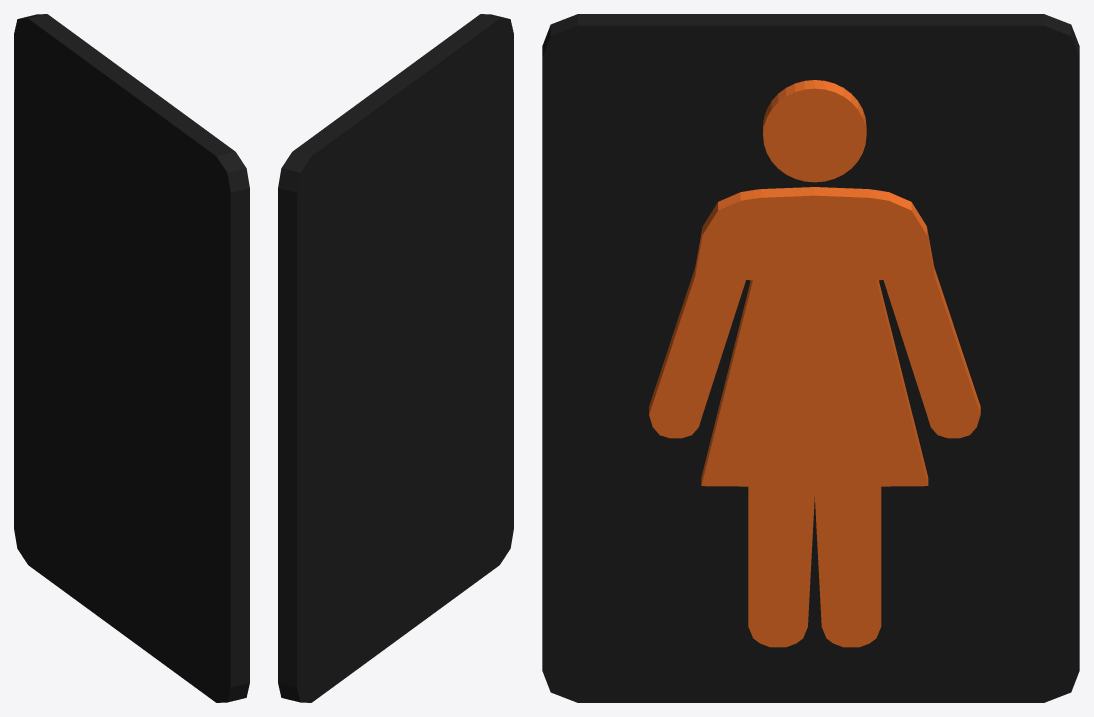
The model's file is FeMaleSign.fbx.
3 views of the same model, side by side, from view 1: azimuth 30°, elevation 25°; view 2: azimuth 150°, elevation 25°; view 3: azimuth 270°, elevation 25° (orthographic). The views are drawn at different scales.
Parts seen in each view (by area): view 1: Cube.003; view 2: Cube.003; view 3: Cube.003, Cube.004, Cylinder.001.
Part boxes in pixels (left/top/right/bottom): Cube.003: left=14, top=14, right=249, bottom=702; Cube.003: left=278, top=14, right=513, bottom=702; Cube.003: left=542, top=14, right=1079, bottom=702; Cube.004: left=649, top=187, right=980, bottom=647; Cylinder.001: left=763, top=80, right=866, bottom=182.
Bounding box in the file's own units: 6.23 × 96.89 × 69.65.
